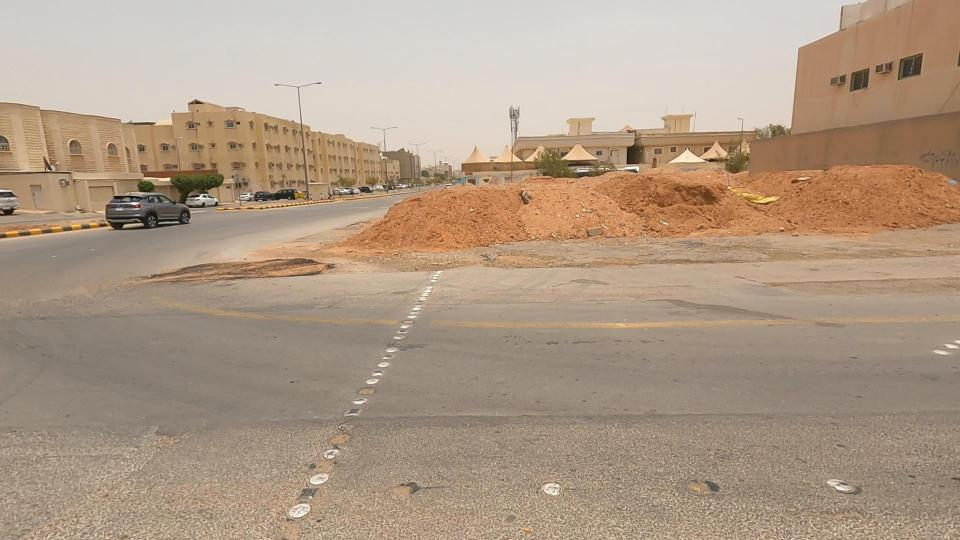GARBAGE: (695, 161, 813, 233)
POTHOLES: (112, 217, 392, 328)
SAND_ON_ROAD: (353, 141, 656, 282), (733, 130, 954, 267)
